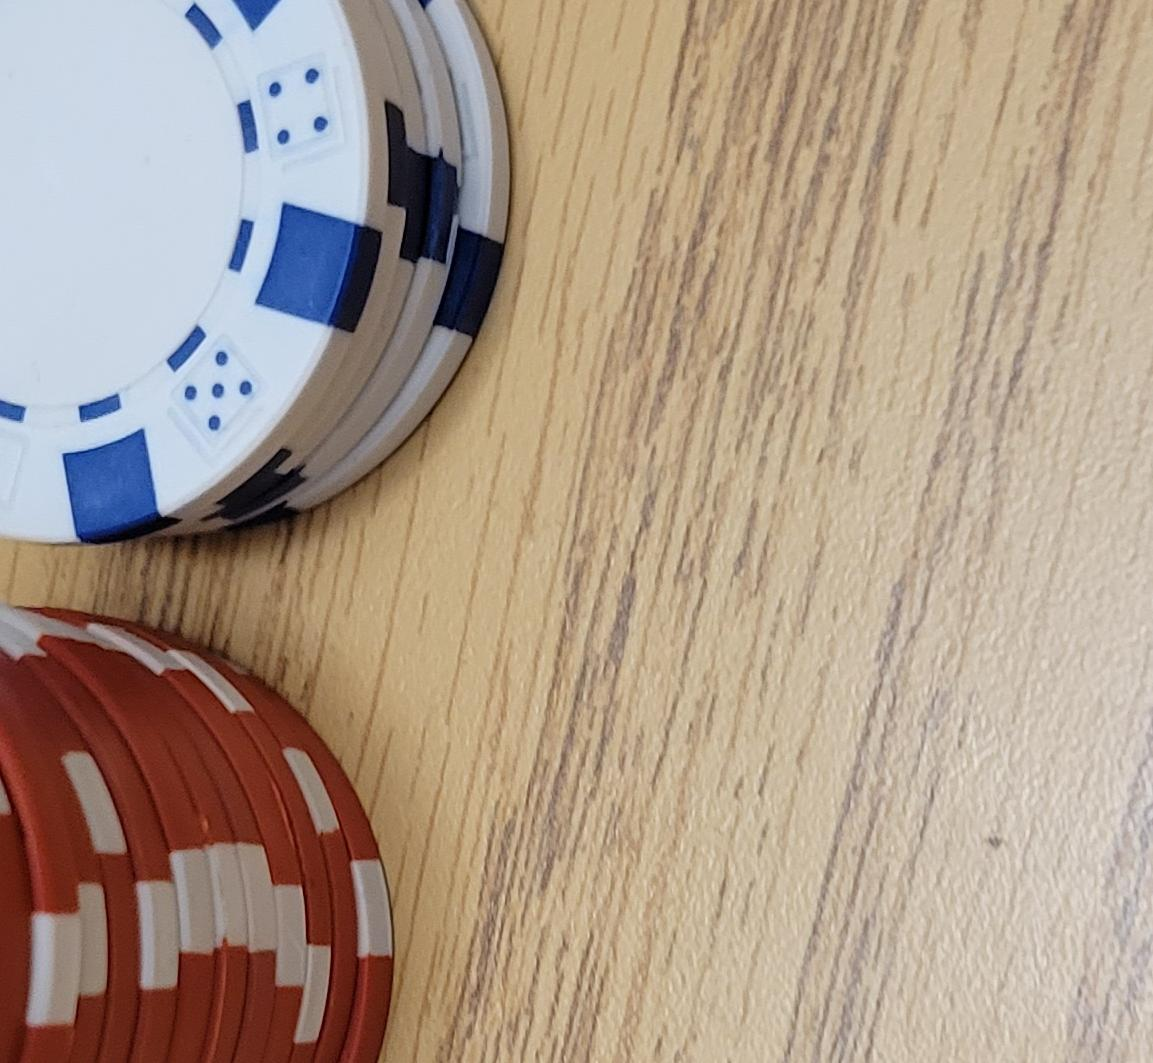Chip: (1, 160, 481, 1063)
